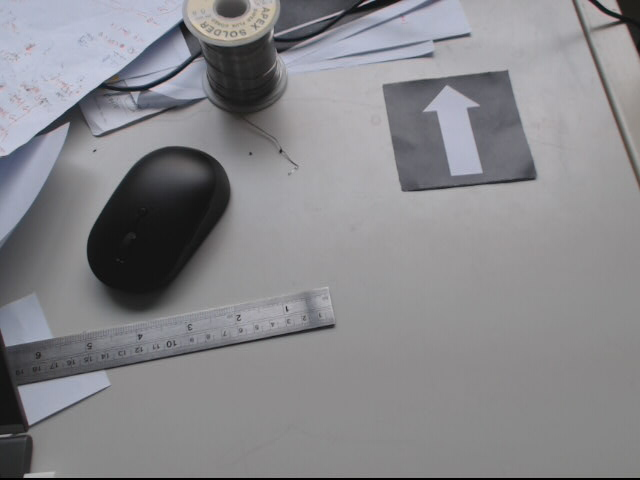straight: (383, 67, 535, 191)
